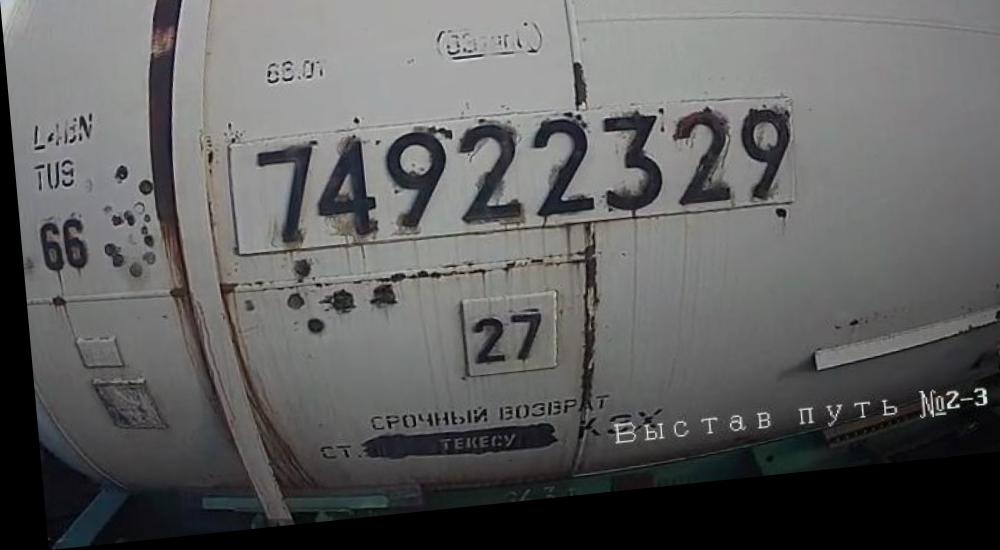Wagon-number: (244, 101, 792, 262)
